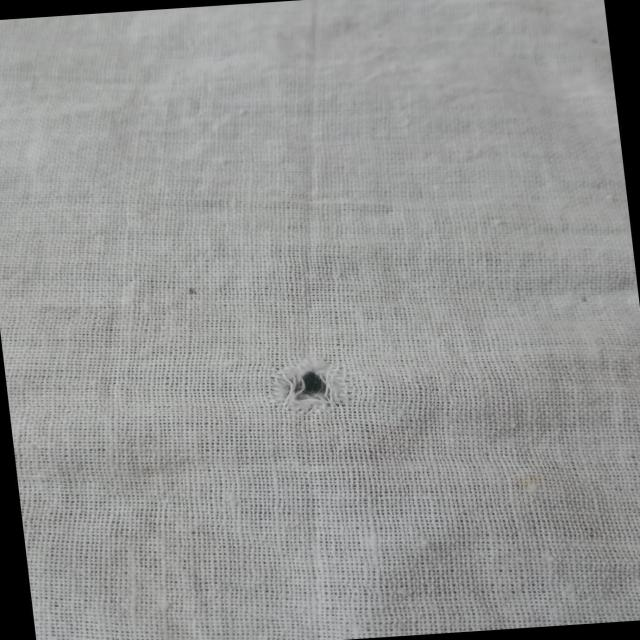cut: (272, 362, 342, 410)
